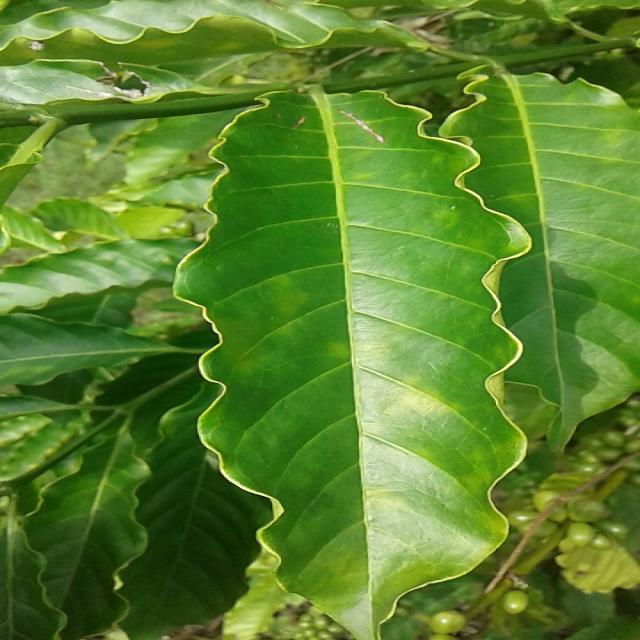Sanas: (173, 92, 560, 626)
